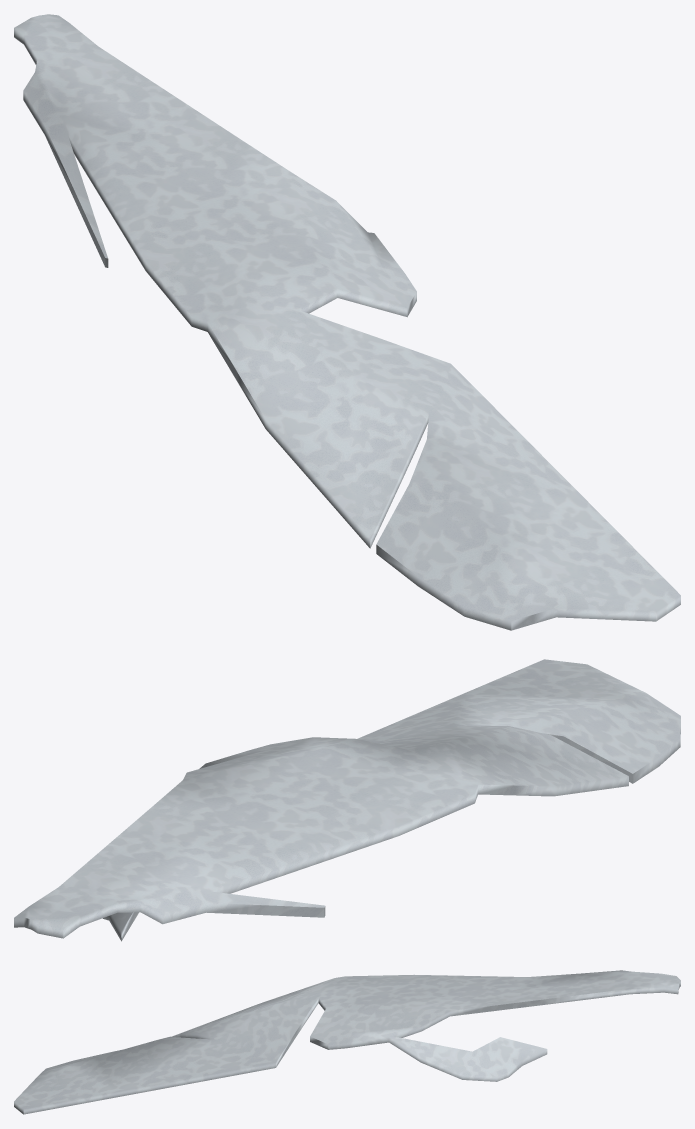
The model's file is Cliff_1_Snow.fbx.
The picture shows the model from 3 angles, top to bottom: view 1: azimuth 30°, elevation 25°; view 2: azimuth 150°, elevation 25°; view 3: azimuth 270°, elevation 25°; orthographic projection. The views are drawn at different scales.
Visible parts, largest first — view 1: Cliff_1_Snow; view 2: Cliff_1_Snow; view 3: Cliff_1_Snow.
Boxes of the visible parts, x1,y1,x2,y2 form: Cliff_1_Snow: [14, 14, 680, 630]; Cliff_1_Snow: [14, 659, 680, 941]; Cliff_1_Snow: [14, 970, 680, 1114].
Bounding box in the file's own units: 2222 × 1666 × 8865.
